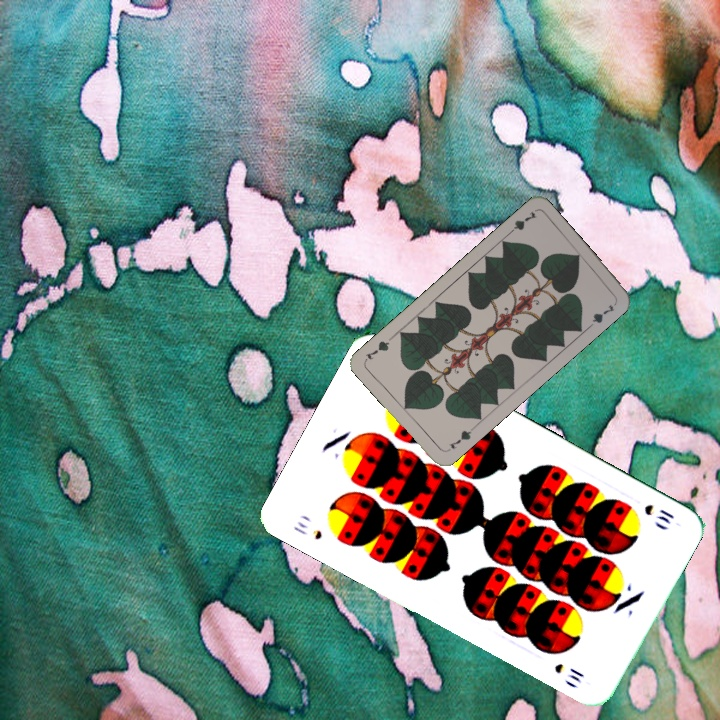G7: (503, 207, 539, 238), (445, 424, 476, 451)
S10: (640, 500, 677, 527), (289, 516, 325, 543)
